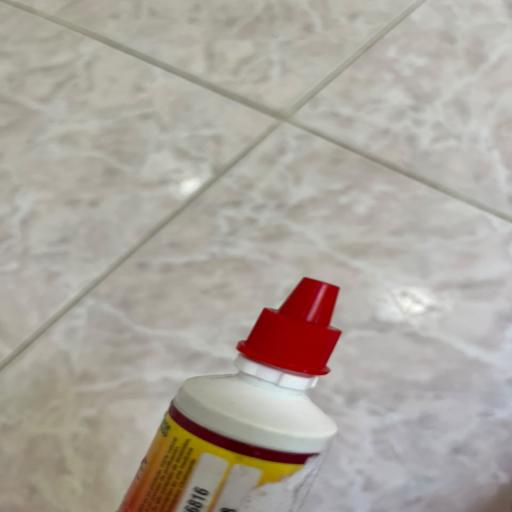HDPE: (170, 267, 358, 512)
